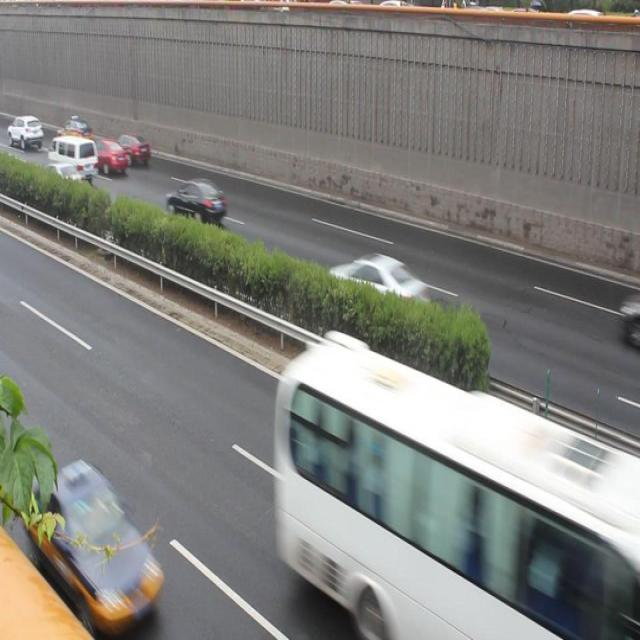car: (27, 458, 166, 622), (324, 244, 423, 319), (164, 173, 224, 230), (37, 157, 83, 199), (91, 136, 126, 176), (111, 130, 150, 164), (56, 115, 94, 147)
truck: (52, 134, 98, 175)
van: (269, 339, 640, 640)
